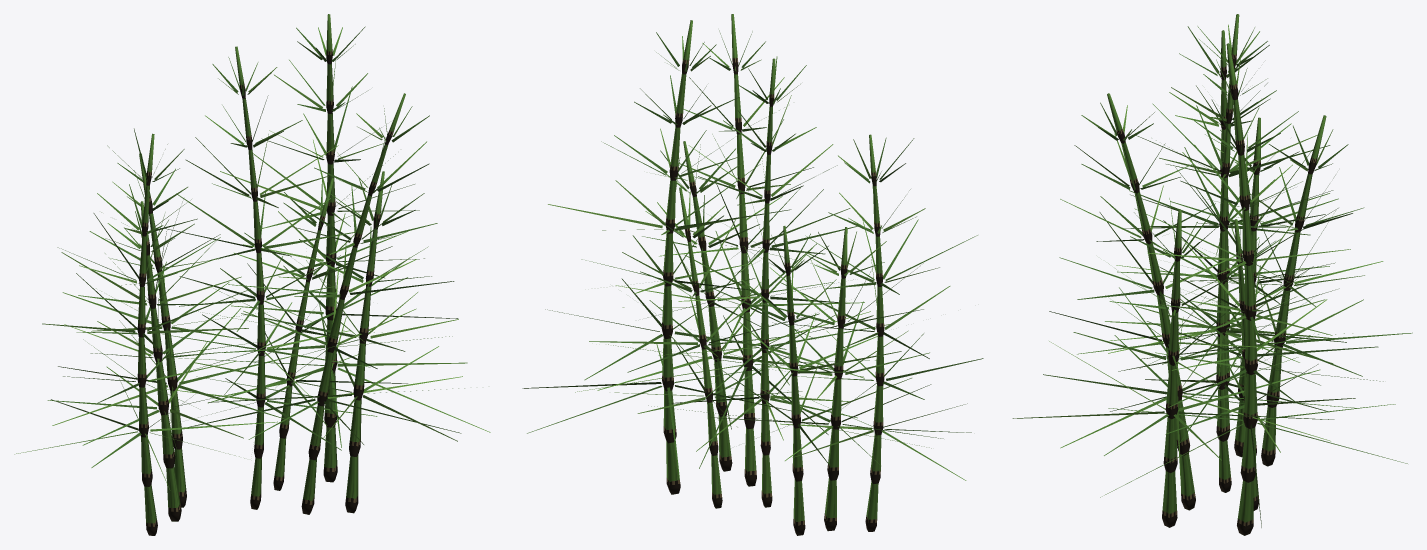
Rendered from horsetail_v01_LOD1.fbx.
3 views of the same model, side by side, from view 1: azimuth 30°, elevation 25°; view 2: azimuth 150°, elevation 25°; view 3: azimuth 270°, elevation 25° (orthographic). The views are drawn at different scales.
Visible parts, largest first — view 1: horsetail_v01_LOD1; view 2: horsetail_v01_LOD1; view 3: horsetail_v01_LOD1.
Boxes of the visible parts, x1=… form: horsetail_v01_LOD1: x1=14, y1=14, x2=490, y2=535; horsetail_v01_LOD1: x1=522, y1=14, x2=983, y2=535; horsetail_v01_LOD1: x1=1012, y1=14, x2=1412, y2=535.
Size of the model in its own units: 31.28 by 23.47 by 31.43.
Materials: 2 (2 with a texture image).
